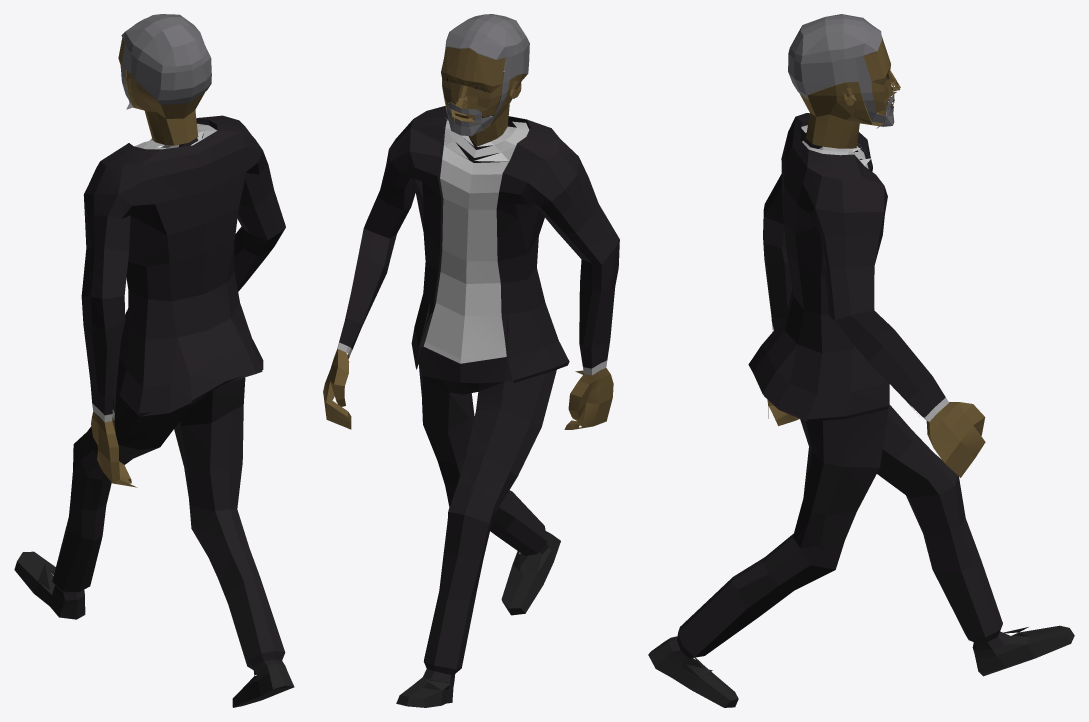
The model's file is person_4_w1.fbx.
3 renders of one model, left to right at view 1: azimuth 30°, elevation 25°; view 2: azimuth 150°, elevation 25°; view 3: azimuth 270°, elevation 25°, orthographic. The views are drawn at different scales.
Visible parts, largest first — view 1: BaseHuman; view 2: BaseHuman; view 3: BaseHuman.
Boxes of the visible parts, box(x1,y1,x2,y2) form: BaseHuman: box(14, 14, 294, 707); BaseHuman: box(323, 14, 619, 707); BaseHuman: box(648, 14, 1074, 707).
Bounding box in the file's own units: 0.3531 × 1 × 0.573.
